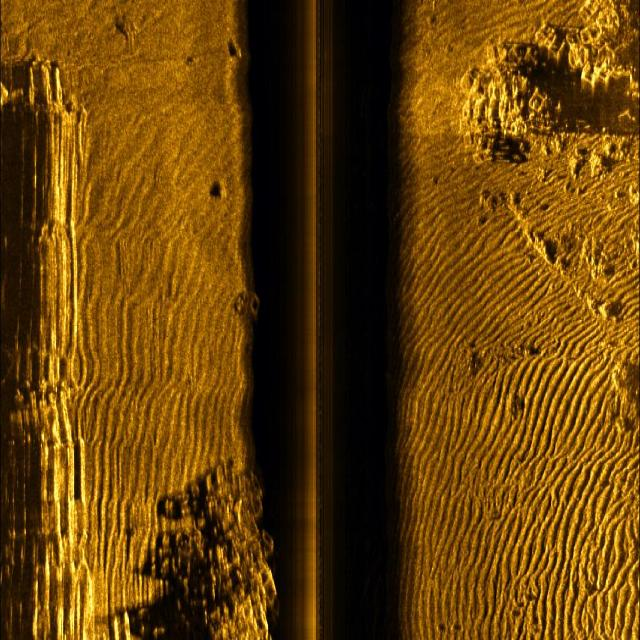artificial reef: (459, 8, 633, 152), (159, 474, 289, 640), (241, 271, 280, 335)
